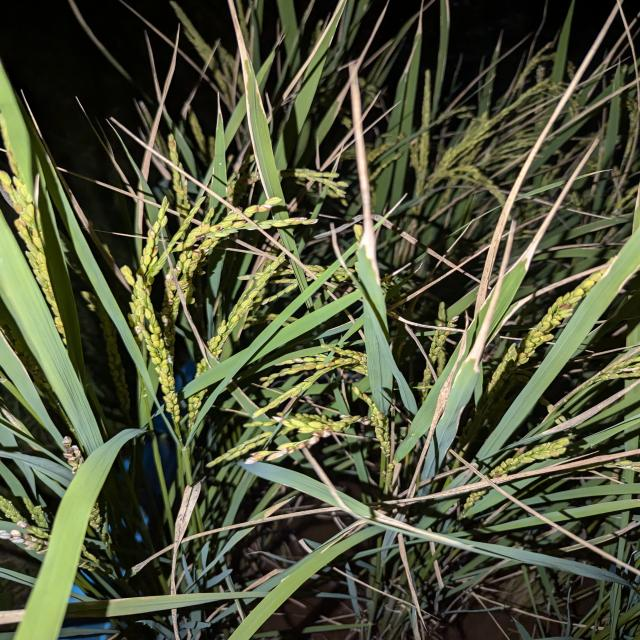9month_ine: (0, 0, 319, 632), (328, 54, 640, 636)
